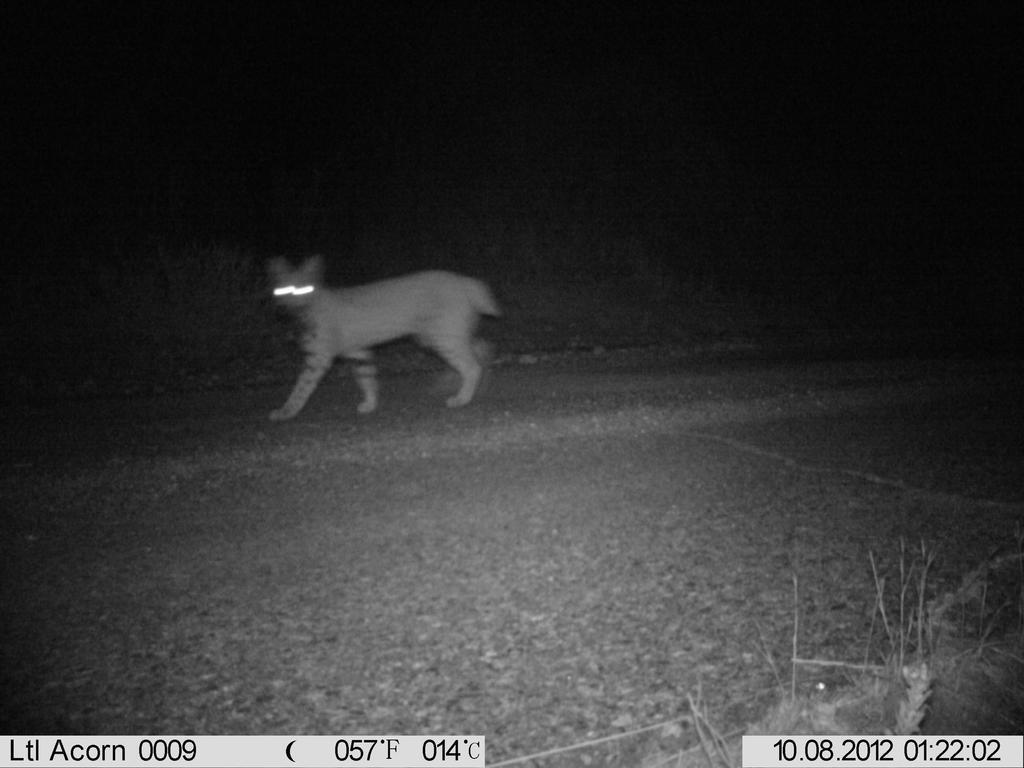bobcat: (258, 245, 510, 431)
